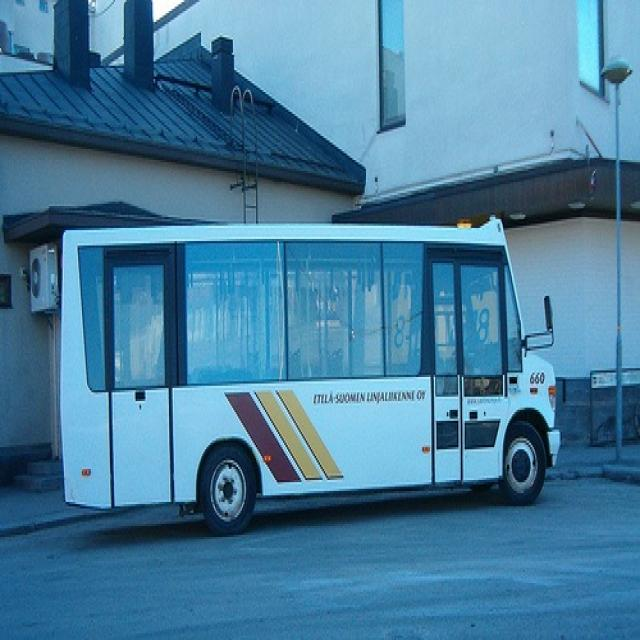bus: (59, 217, 562, 537)
